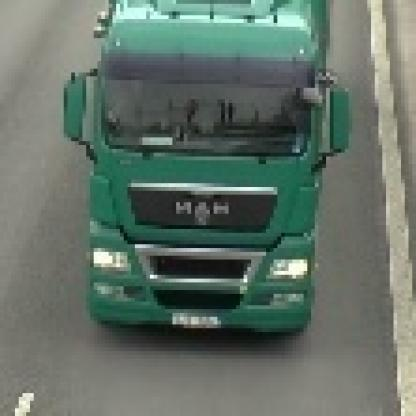truck: (61, 1, 350, 337)
